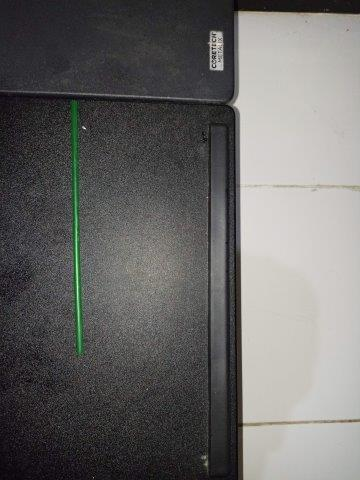sedotan: (70, 100, 84, 352)
